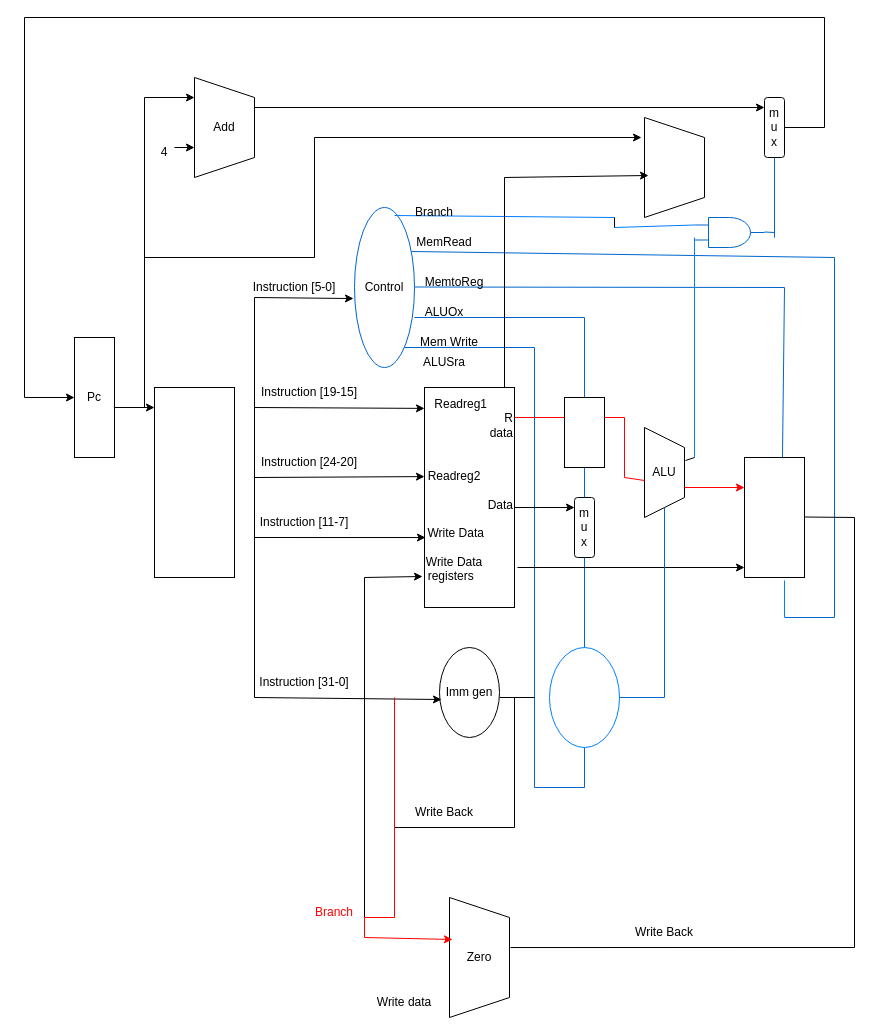
Some shapes in this 873 by 1035 pixel diagram are drawn without their labels. Each missing label, with the centre of its shape:
Add Sum: pixel 674 167
Address Read Data Write Data: pixel 774 517
ALU Contol: pixel 584 697
FPU: pixel 584 432
Read address Instruction [31-0] Read address: pixel 194 482
